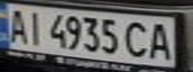3: (78, 15, 103, 52)
4: (45, 11, 66, 48)
5: (100, 16, 124, 56)
9: (63, 12, 84, 51)
A: (145, 20, 175, 61), (3, 6, 30, 44)
C: (121, 19, 151, 60)
I: (21, 8, 48, 46)
